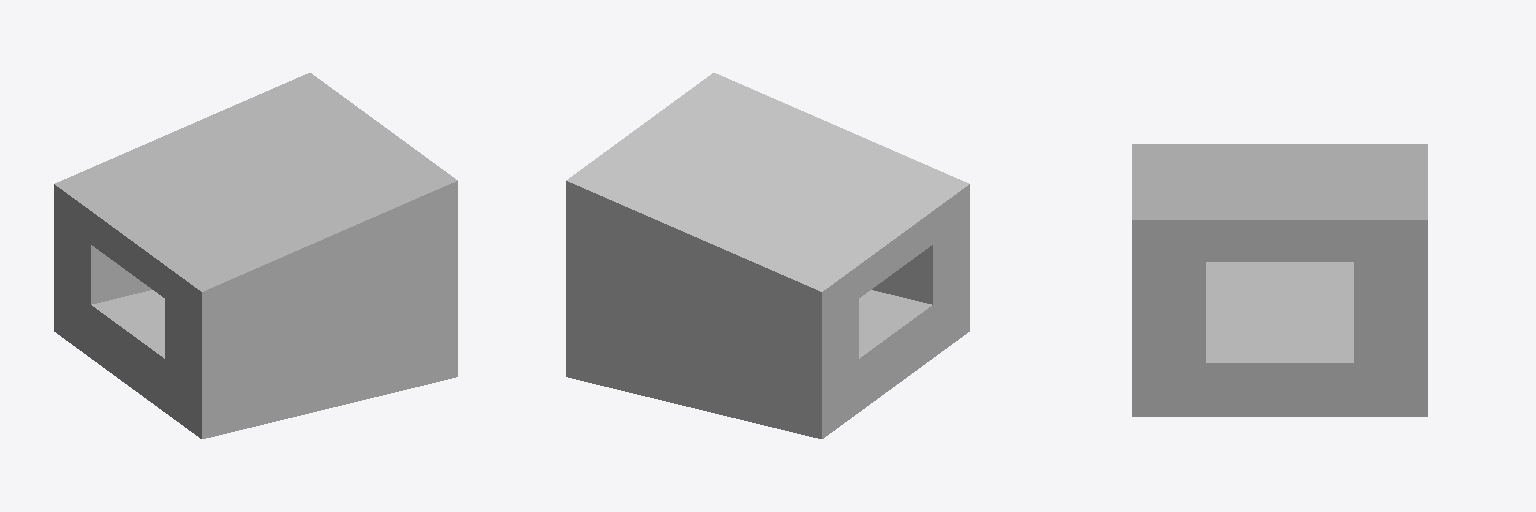
File: tile269.obj
3 views of the same model, side by side, from view 1: azimuth 30°, elevation 25°; view 2: azimuth 150°, elevation 25°; view 3: azimuth 270°, elevation 25° (orthographic).
Visible parts, largest first — view 1: tile269; view 2: tile269; view 3: tile269.
Part boxes in pixels (bbox=[...]): tile269: bbox=[54, 73, 457, 438]; tile269: bbox=[566, 73, 969, 438]; tile269: bbox=[1132, 144, 1427, 416].
Size of the model in its own units: 1 by 0.7333 by 1.